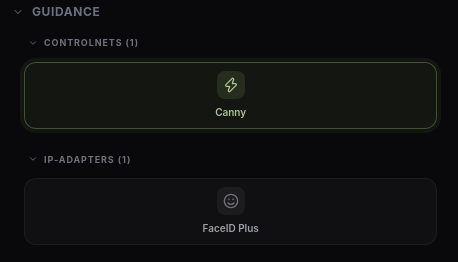
GuidanceSection › collapses guidance groups without changing selected filters
This screenshot has width=458, height=262.
Click the text "ControlNets (1)" at [84, 43], box x1=28 y1=36 x2=139 y2=50
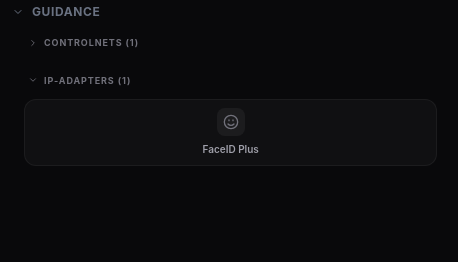
Expected: the button "Canny" is gone
